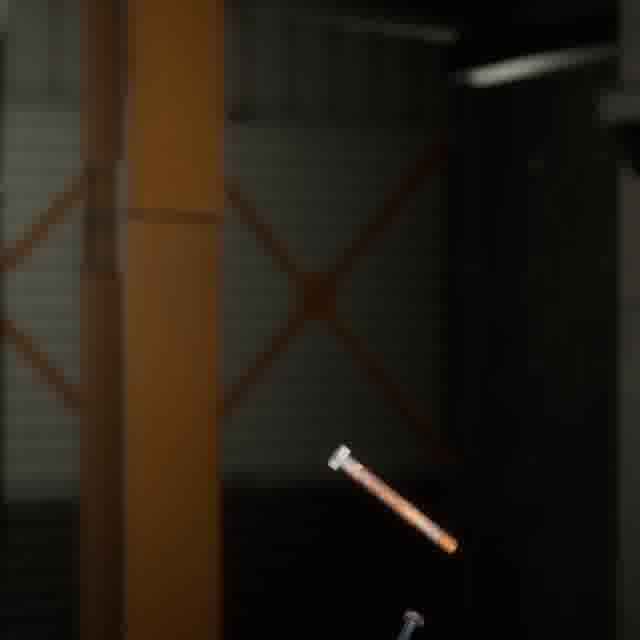bolt: (322, 439, 462, 558), (392, 605, 429, 640)
